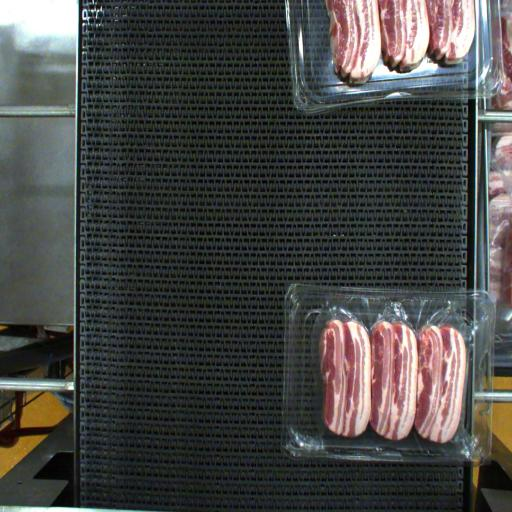unsealed: (319, 288, 485, 452)
